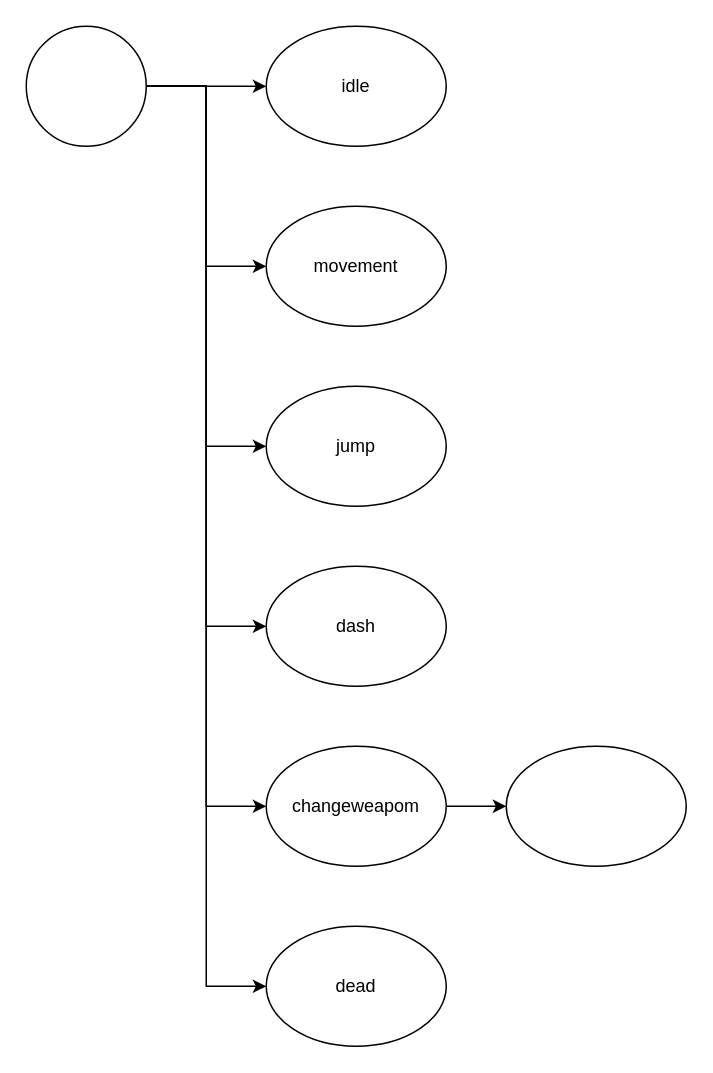
Image size: 713x1073. Some labels were removed from this diagram. Each missing label, with the box of its shape:
attack: (505, 745, 686, 866)
character: (25, 25, 146, 146)
